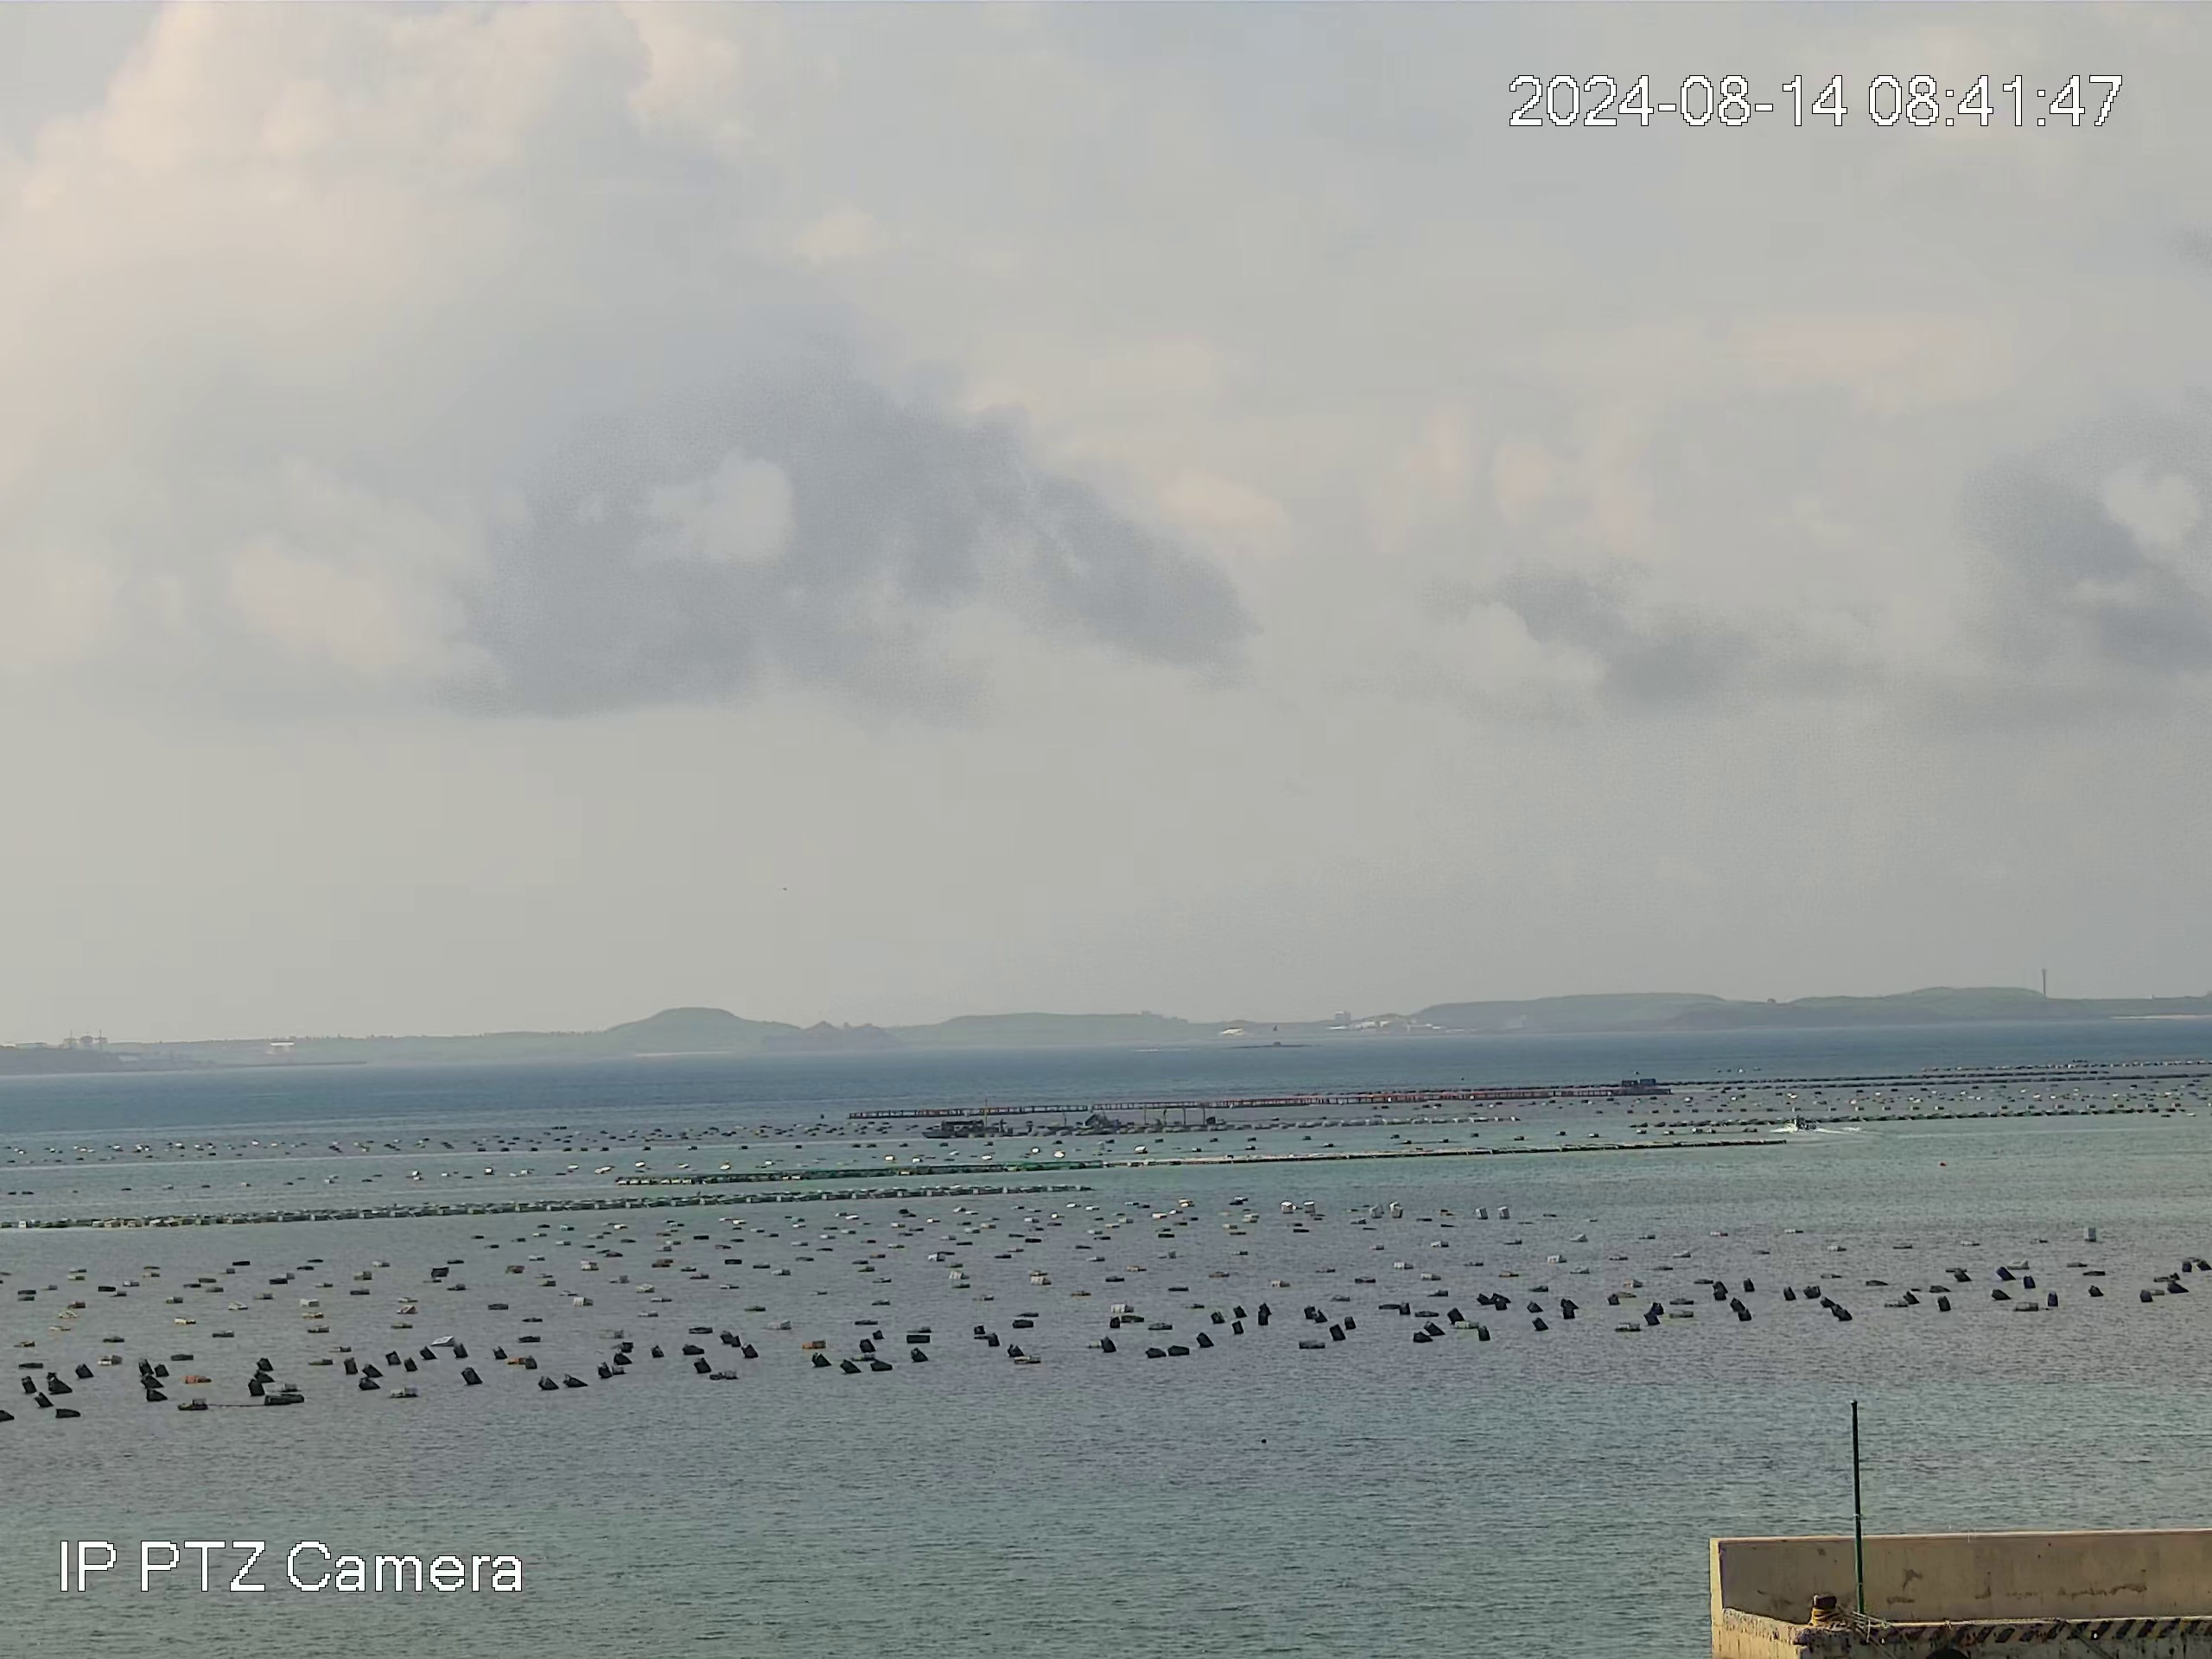boat: (921, 1112, 991, 1138), (1789, 1115, 1818, 1131)
